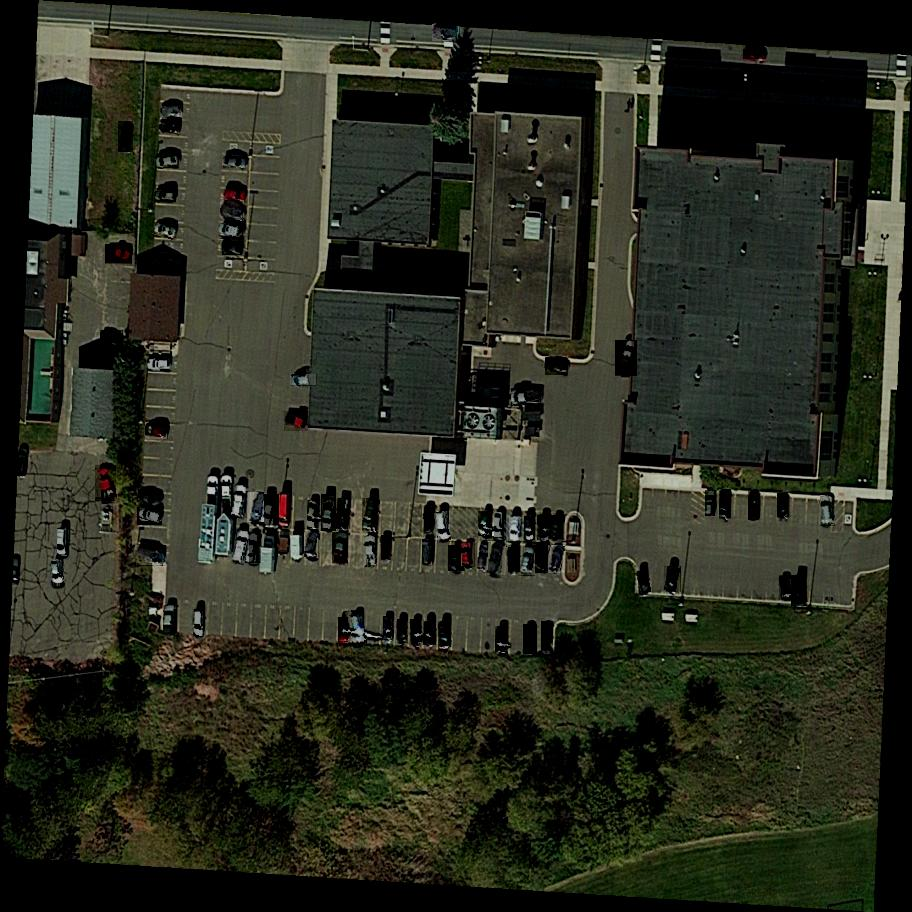small-vehicle: (96, 463, 117, 502), (615, 340, 637, 376), (134, 545, 167, 567), (259, 495, 280, 529), (231, 530, 251, 565), (488, 542, 507, 578), (349, 610, 367, 647), (363, 498, 382, 533), (231, 484, 249, 519), (321, 494, 338, 531), (532, 543, 552, 574), (105, 244, 134, 265), (245, 532, 263, 565), (432, 23, 461, 43), (247, 491, 265, 523), (333, 532, 350, 565), (511, 388, 542, 406), (548, 545, 566, 574), (792, 575, 808, 607), (284, 411, 309, 431), (221, 201, 246, 221), (118, 121, 134, 152), (138, 507, 164, 526), (664, 566, 682, 593), (336, 499, 351, 531), (523, 624, 539, 654), (138, 489, 163, 508), (153, 222, 178, 241), (478, 511, 496, 537), (544, 358, 570, 376), (820, 495, 835, 526), (520, 547, 536, 576), (305, 532, 321, 560), (448, 546, 465, 572), (436, 511, 450, 542), (100, 331, 125, 348), (549, 516, 566, 541), (145, 423, 169, 440), (220, 223, 244, 240), (538, 514, 553, 541), (364, 535, 376, 568), (164, 605, 177, 635), (778, 575, 793, 601), (720, 489, 733, 519), (636, 570, 652, 594), (411, 619, 425, 646), (225, 187, 248, 203), (462, 542, 476, 568), (495, 626, 509, 652), (438, 621, 451, 648), (748, 491, 760, 520), (777, 494, 791, 518), (424, 621, 437, 646), (51, 560, 64, 585), (509, 516, 522, 541), (477, 544, 489, 571), (223, 156, 247, 169), (157, 155, 180, 168), (155, 258, 178, 271), (541, 621, 551, 650), (705, 490, 716, 516), (424, 505, 434, 533), (148, 358, 171, 370), (291, 374, 316, 385), (222, 243, 243, 256), (194, 609, 204, 636), (162, 120, 181, 134), (509, 548, 520, 572), (163, 105, 183, 118), (339, 617, 349, 642), (494, 513, 504, 538), (525, 516, 535, 541), (308, 501, 317, 528), (58, 529, 67, 555), (423, 539, 432, 565), (398, 619, 408, 642), (743, 50, 766, 60), (156, 191, 176, 202), (381, 536, 390, 560), (383, 617, 392, 639)
